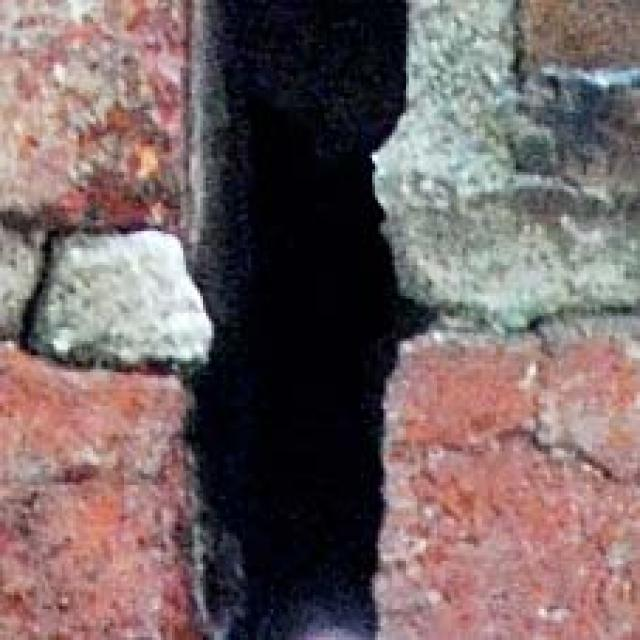Crack: (142, 0, 483, 640)
